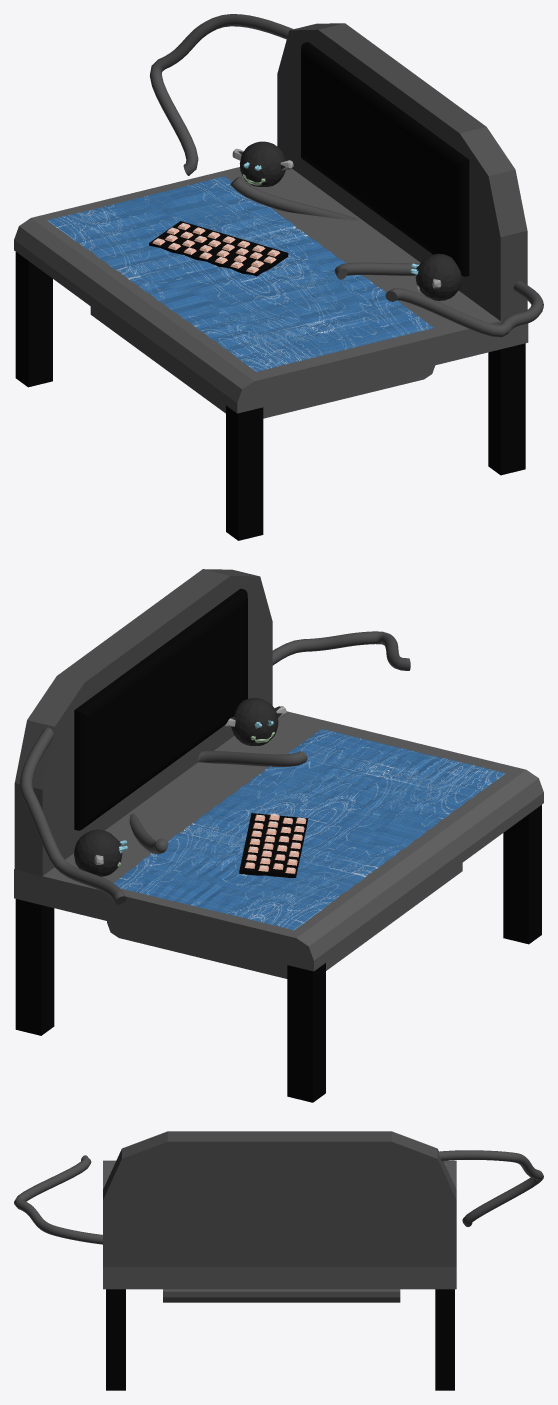
File: Workbench_with blueprints.glb
The picture shows the model from 3 angles, top to bottom: view 1: azimuth 30°, elevation 25°; view 2: azimuth 150°, elevation 25°; view 3: azimuth 270°, elevation 25°; orthographic projection. The views are drawn at different scales.
Visible parts, largest first — view 1: Plane, Cube, Cube.005, Cube.006, Cube.003, Cube.004, Cube.002, Plane.001, BézierCurve, Cube.007, BézierCurve.001, Sphere.002 (+3 smaller); view 2: Plane, Cube, Cube.006, Cube.005, Cube.001, Cube.002, Cube.003, Cube.007, Plane.001, BézierCurve, BézierCurve.001, Sphere.001 (+3 smaller); view 3: Cube.005, Cube, Cube.007, Cube.001, Cube.004, BézierCurve, BézierCurve.001.
Boxes of the visible parts, x1,y1,x2,y2 form: Plane: [47, 176, 433, 371]; Cube: [14, 167, 528, 413]; Cube.005: [277, 23, 527, 320]; Cube.006: [301, 42, 469, 276]; Cube.003: [226, 405, 263, 540]; Cube.004: [488, 343, 525, 475]; Cube.002: [15, 252, 52, 387]; Plane.001: [149, 221, 288, 276]; BézierCurve: [150, 14, 293, 175]; Cube.007: [90, 307, 435, 418]; BézierCurve.001: [385, 281, 543, 337]; Sphere.002: [232, 141, 293, 186]; Plane: [113, 729, 505, 930]; Cube: [14, 711, 543, 971]; Cube.006: [74, 588, 247, 830]; Cube.005: [14, 569, 272, 885]; Cube.001: [15, 899, 54, 1035]; Cube.002: [287, 963, 325, 1102]; Cube.003: [503, 805, 541, 944]; Cube.007: [107, 863, 462, 978]; Plane.001: [239, 813, 308, 877]; BézierCurve: [20, 727, 126, 904]; BézierCurve.001: [272, 631, 410, 670]; Sphere.001: [224, 698, 286, 745]; Cube.005: [103, 1131, 456, 1266]; Cube: [103, 1160, 456, 1289]; Cube.007: [163, 1289, 400, 1302]; Cube.001: [435, 1289, 454, 1390]; Cube.004: [106, 1289, 125, 1390]; BézierCurve: [438, 1150, 543, 1226]; BézierCurve.001: [14, 1155, 102, 1244].
Size of the model in its own units: 7.56 by 7.8 by 15.06.
Materials: 12 (1 with a texture image).
